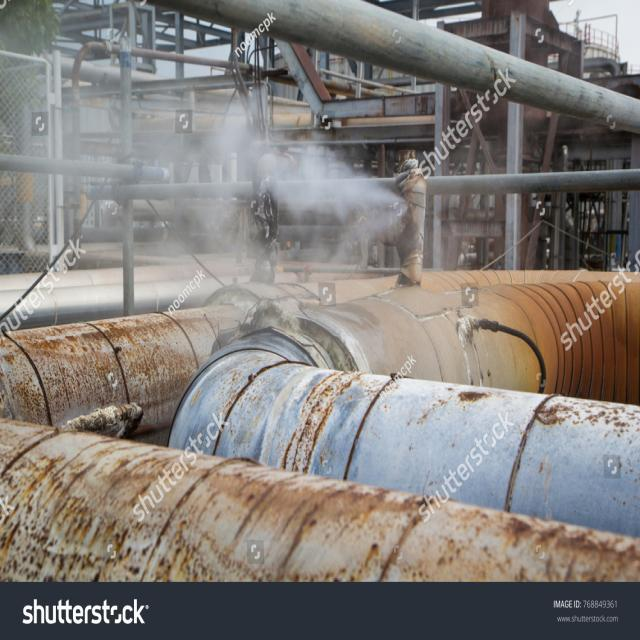corrosion: (164, 146, 484, 294)
